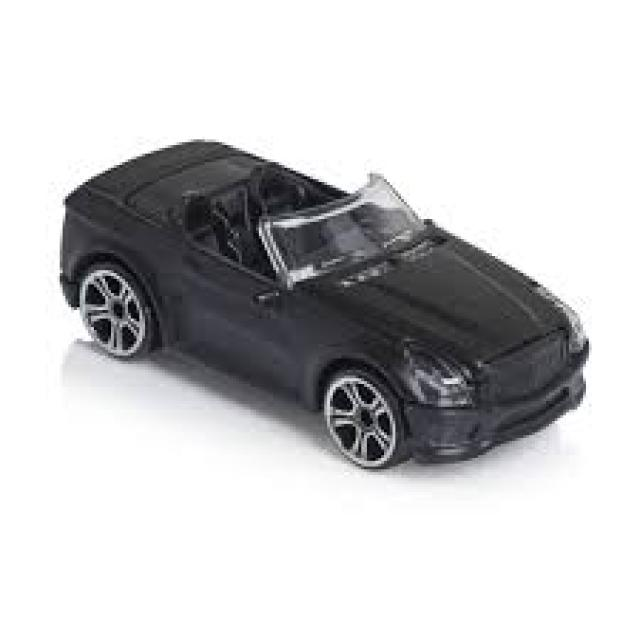Car: (57, 137, 589, 470)
